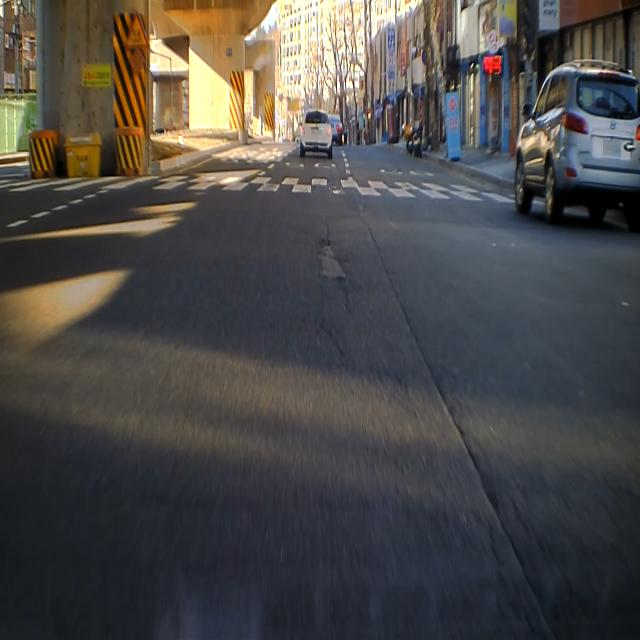Pothole: (309, 231, 354, 290)
